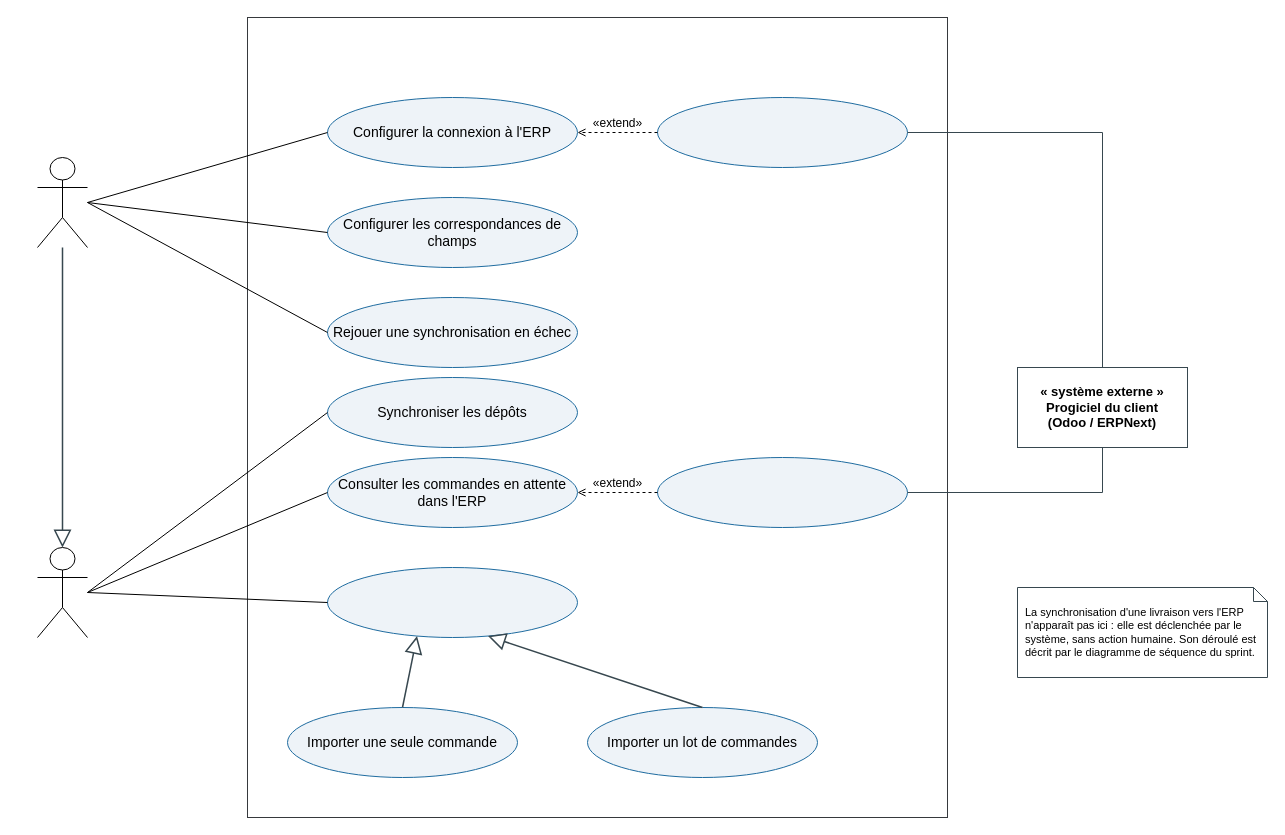
The diagram is 1285 pixels wide and 835 high, and some of its shapes have lost their labels. The shapes that lost their labels are listed below. From the top down, each one's box as (x1, y1, x2, y2) in pixels, then its label:
(656, 96, 908, 168): Certifier l'instance (test de conformité)
(36, 156, 88, 248): Administrateur
(656, 456, 908, 528): Prévisualiser une commande
(36, 546, 88, 638): Dispatcheur
(326, 566, 578, 638): Importer des commandes depuis l'ERP
